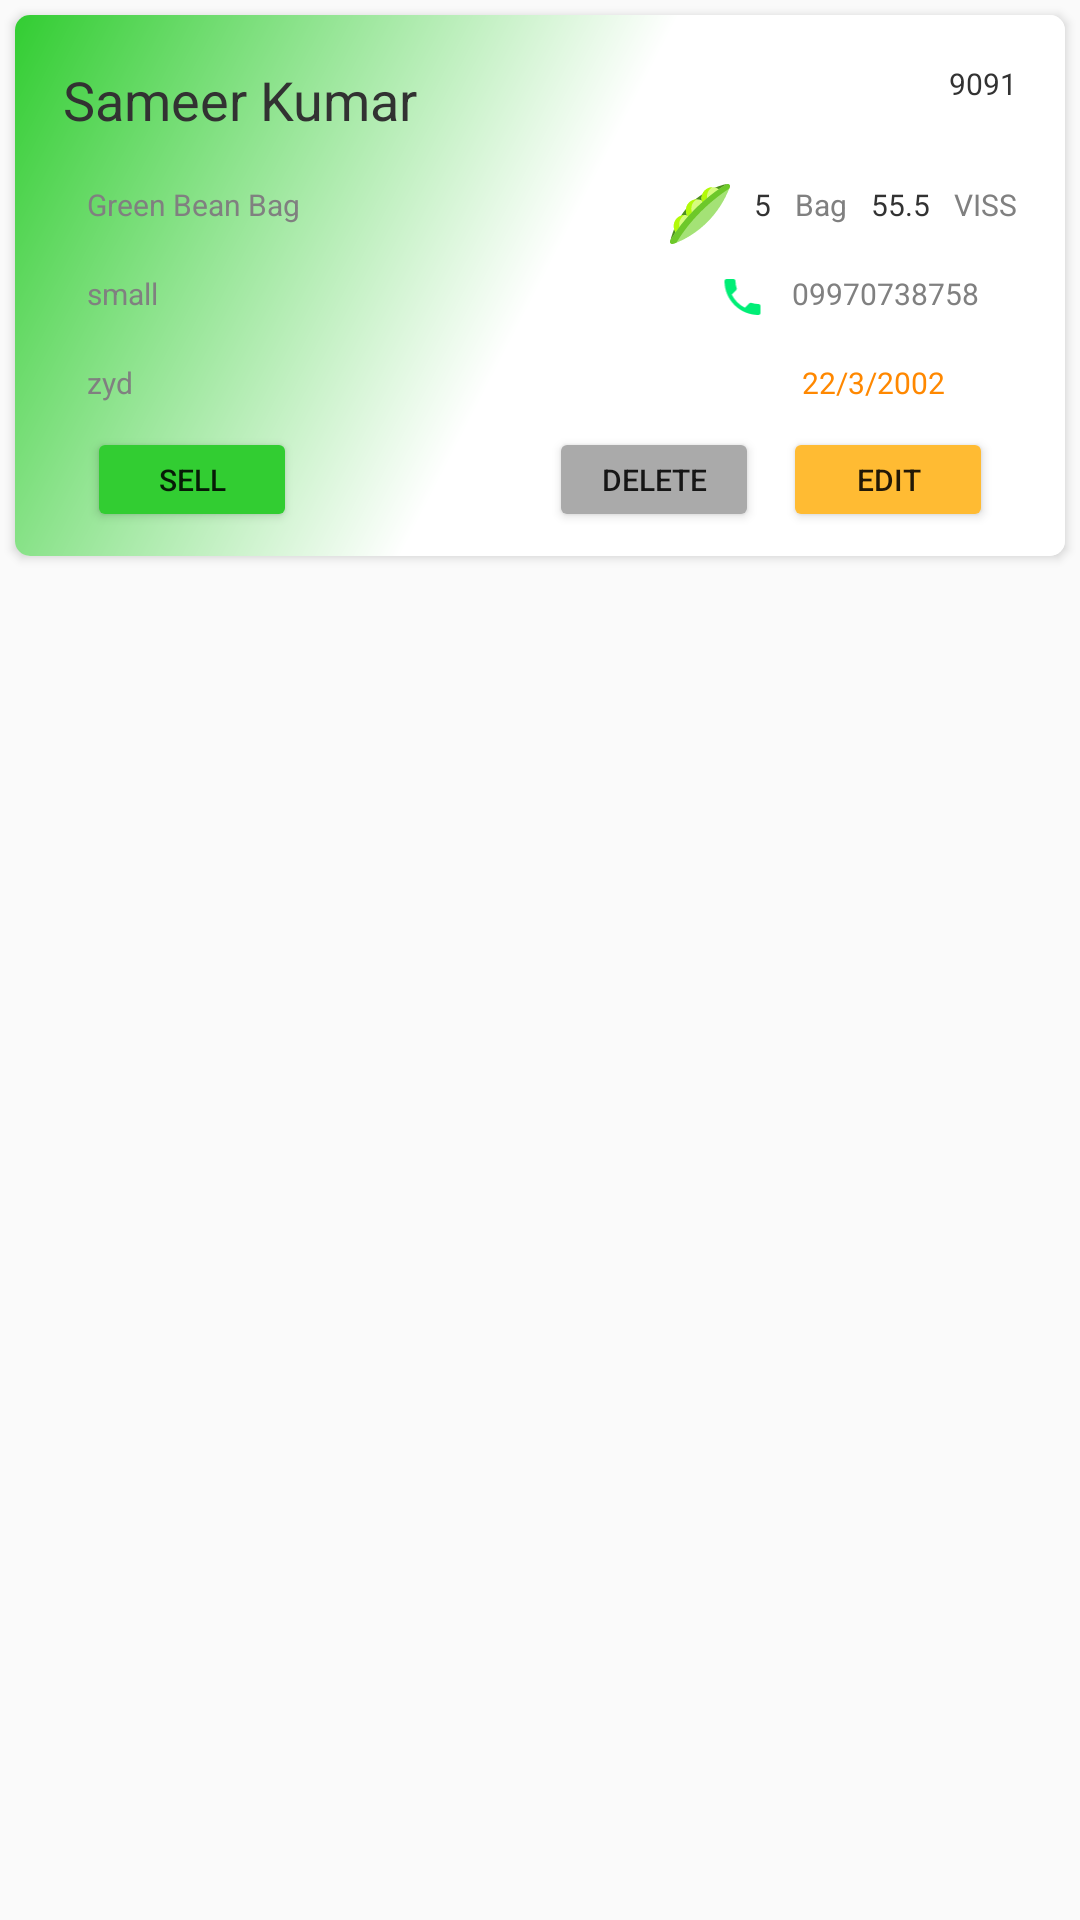

Screen size 1080 x 1920. Icon name, then its center in pixels as [x,y]:
beans: [700,214]
call: [742,297]
